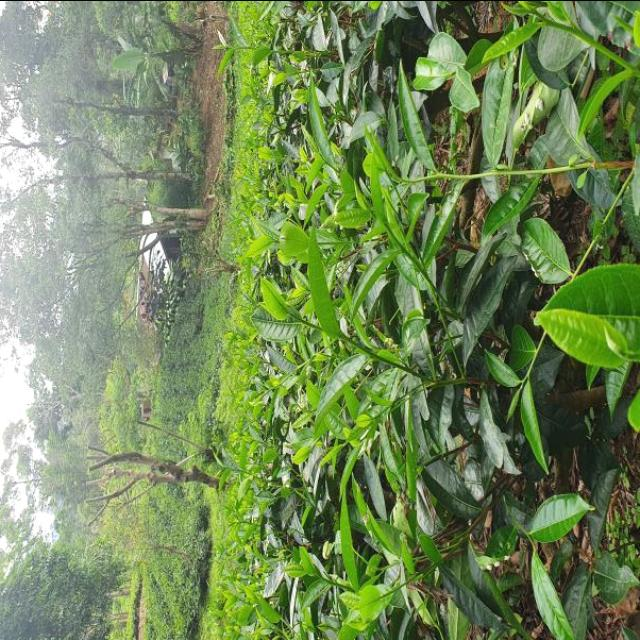Stem: (546, 20, 553, 25), (405, 179, 411, 183), (316, 573, 320, 576)
